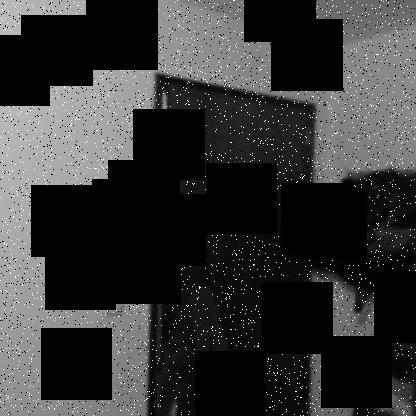Porte: (145, 73, 317, 416)
